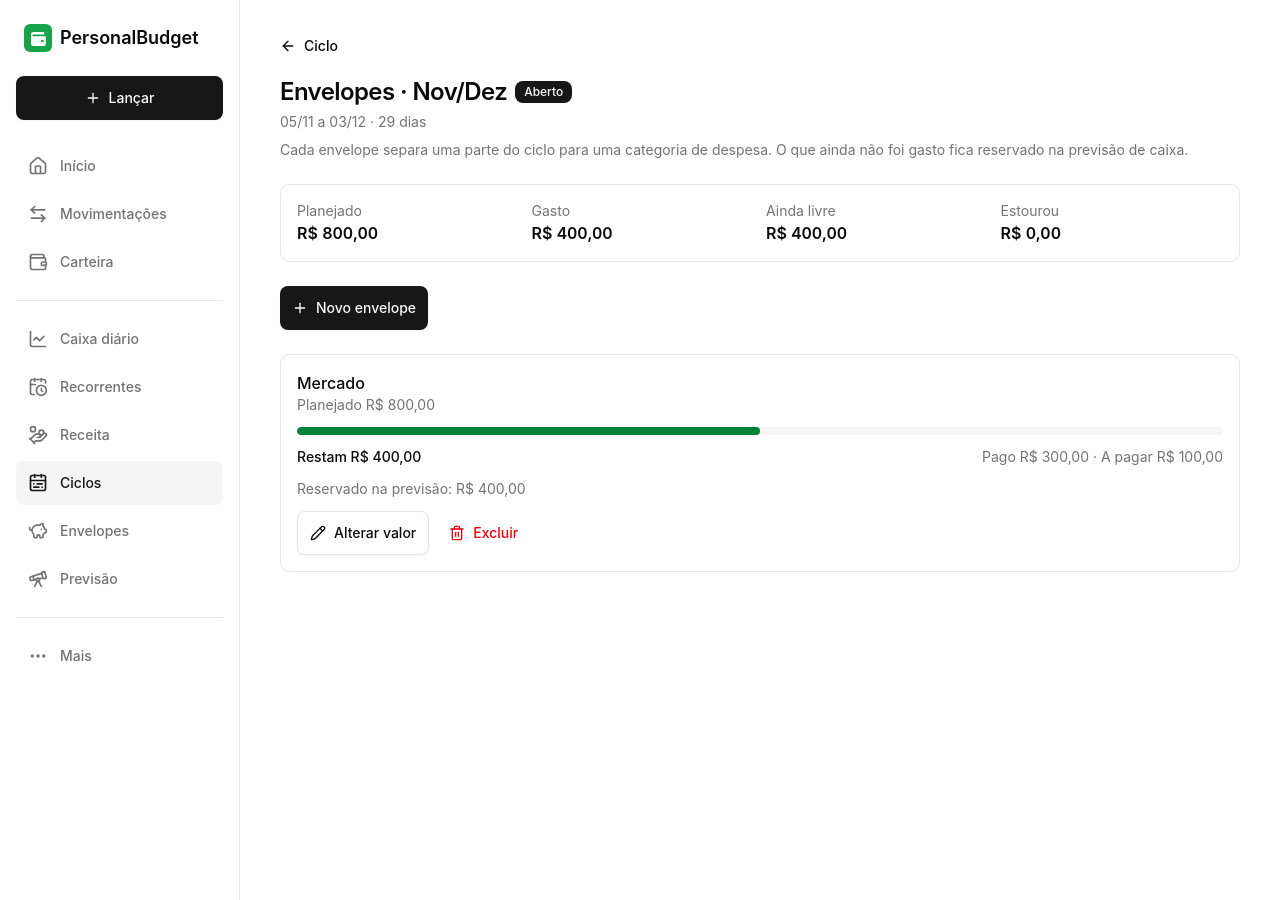
Test: Envelopes do ciclo › escrita › should show the error of the field the back points at
Click the button "Novo envelope".
click(354, 308)  # box [280, 286, 428, 330]
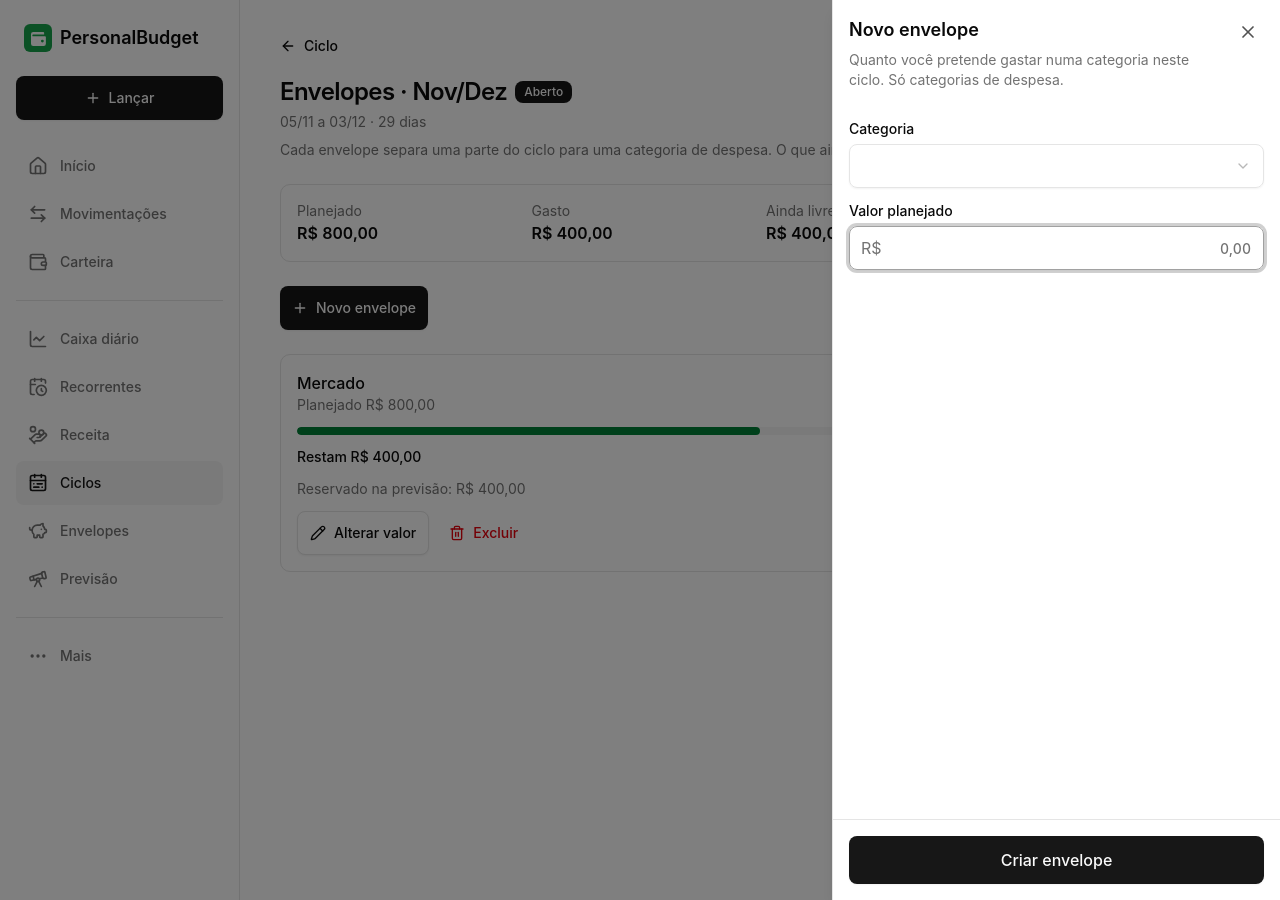
Click the dropdown named "Categoria".
click(1243, 166)  # box [849, 144, 1264, 188]
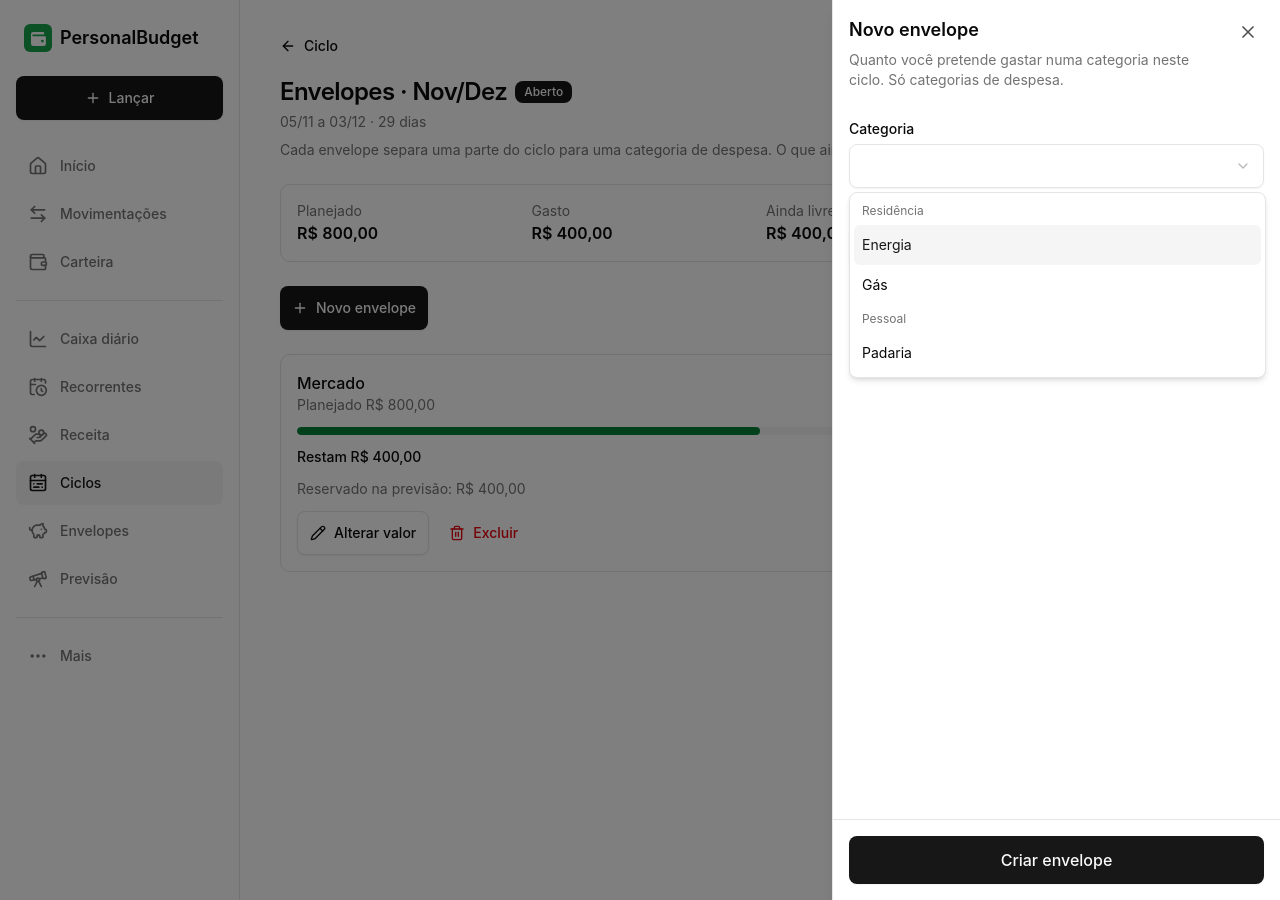
Click the option "Gás".
click(875, 284)  # box [862, 276, 888, 293]
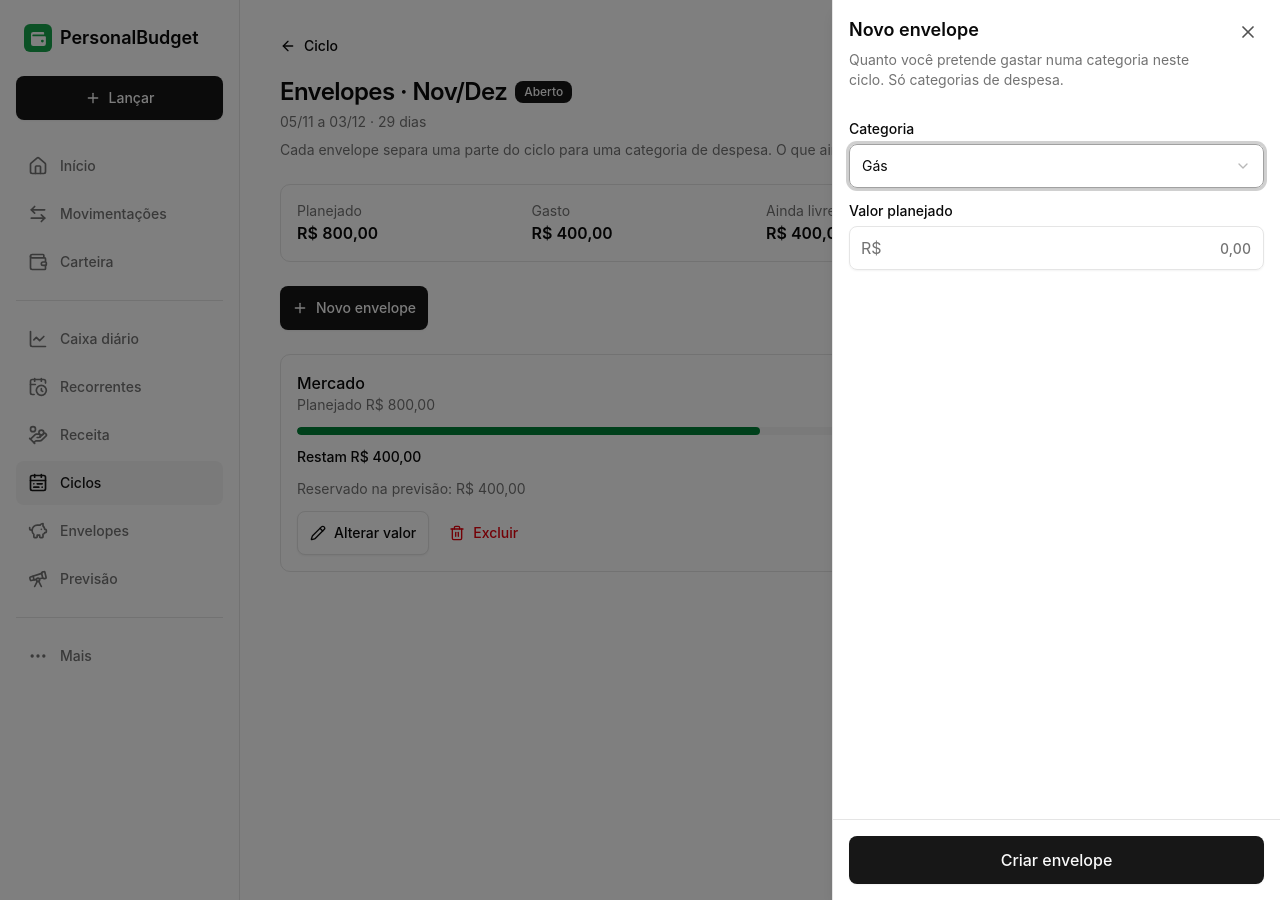
Type "10" into the field labelled "Valor planejado".
click(1056, 248); type("10")  # box [849, 226, 1264, 270]
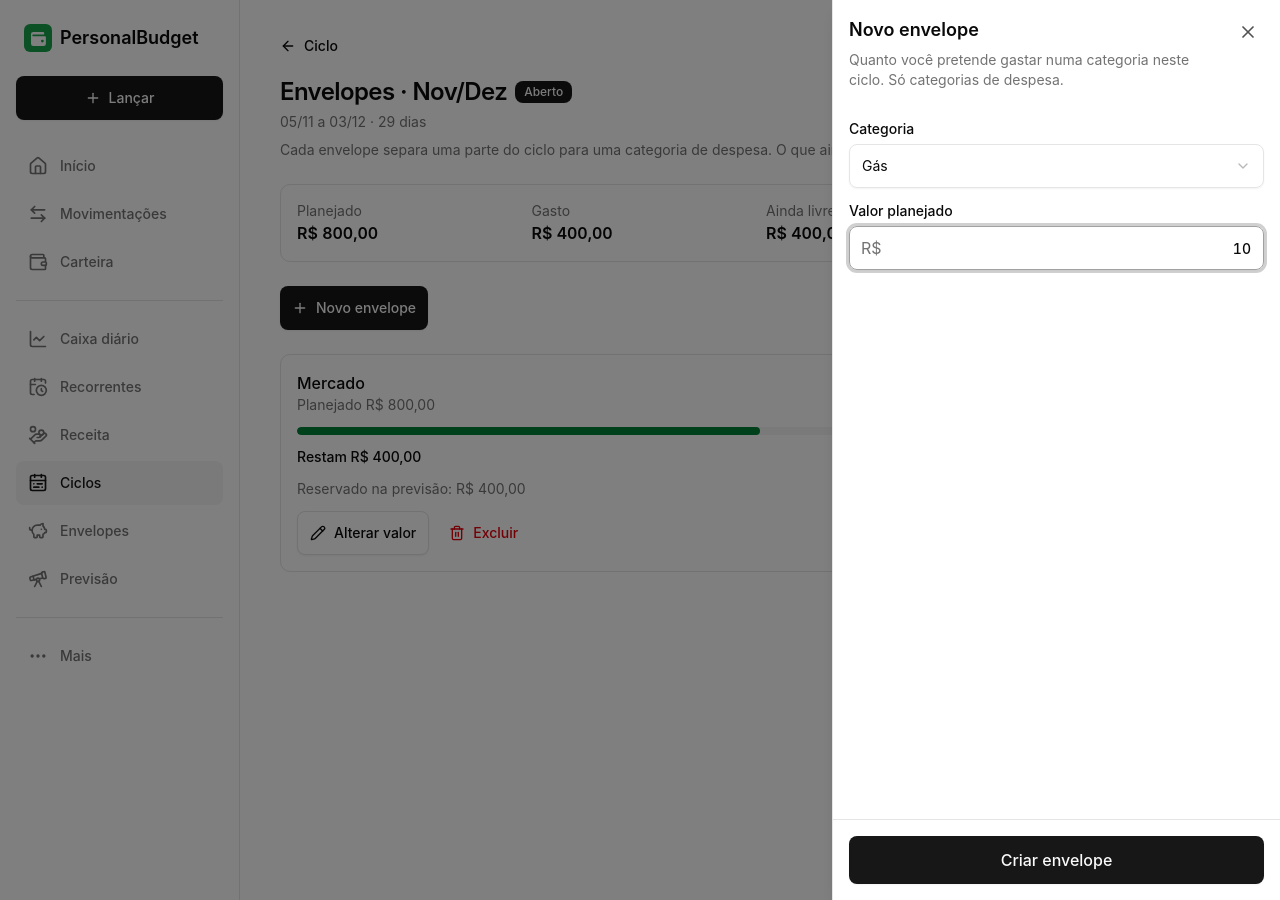
Click the button "Criar envelope".
click(1056, 860)  # box [849, 836, 1264, 884]
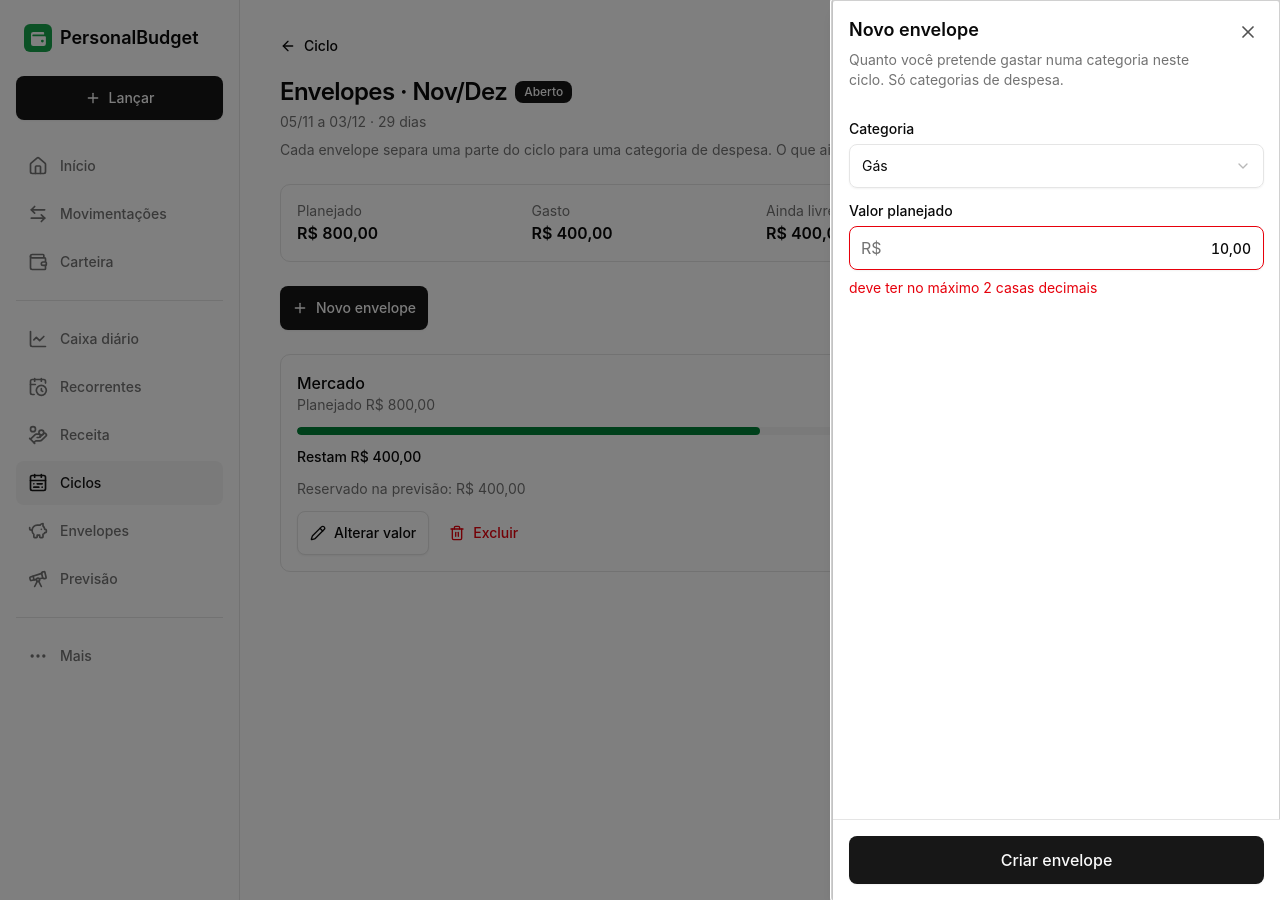
Now the dialog "Novo envelope" is shown, box [832, 0, 1279, 899]
Now the text "deve ter no máximo 2 casas decimais" is shown, box [849, 279, 1097, 296]
